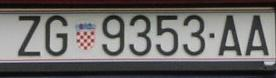-: (208, 33, 215, 38)
3: (129, 15, 152, 56), (183, 15, 205, 56)
5: (157, 15, 178, 55)
9: (102, 15, 124, 56)
A: (219, 15, 242, 55), (247, 15, 268, 56)
G: (46, 15, 68, 55)
Z: (19, 17, 40, 56)
